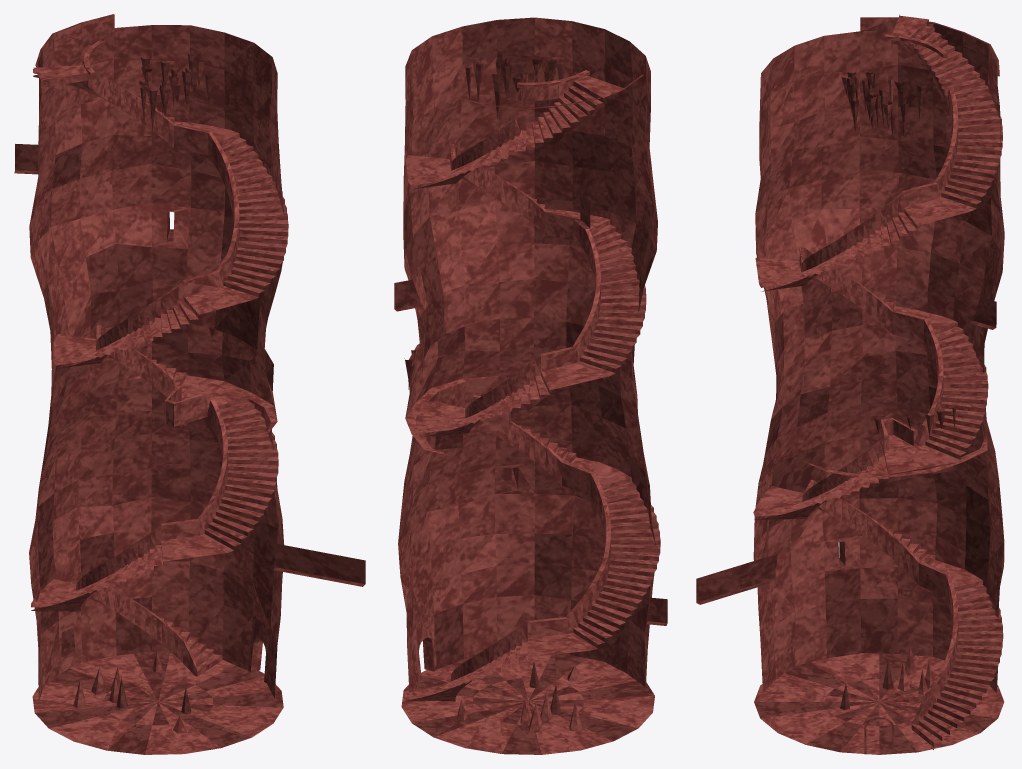
Rendered from tower_interior.glb.
3 renders of one model, left to right at view 1: azimuth 30°, elevation 25°; view 2: azimuth 150°, elevation 25°; view 3: azimuth 270°, elevation 25°, orthographic.
Visible parts, largest first — view 1: TowerInterior; view 2: TowerInterior; view 3: TowerInterior.
Part boxes in pixels (bbox=[...]): TowerInterior: bbox=[14, 14, 365, 754]; TowerInterior: bbox=[394, 17, 667, 754]; TowerInterior: bbox=[696, 14, 1004, 754].
Size of what is drawn, in the model's own units: 14.59 by 38.43 by 16.96.
1 material, 1 textured.
